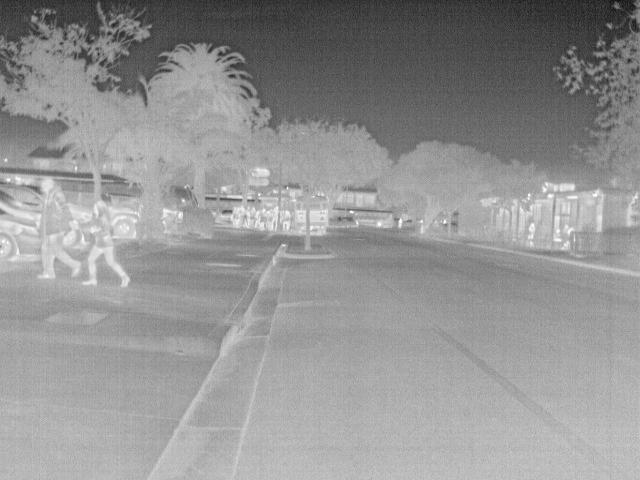car: (2, 206, 38, 264), (106, 204, 142, 238), (163, 204, 184, 234), (219, 207, 236, 222)
person: (31, 176, 82, 278), (81, 199, 131, 288), (525, 216, 540, 246), (561, 222, 573, 250), (551, 227, 564, 243), (396, 214, 404, 230)
